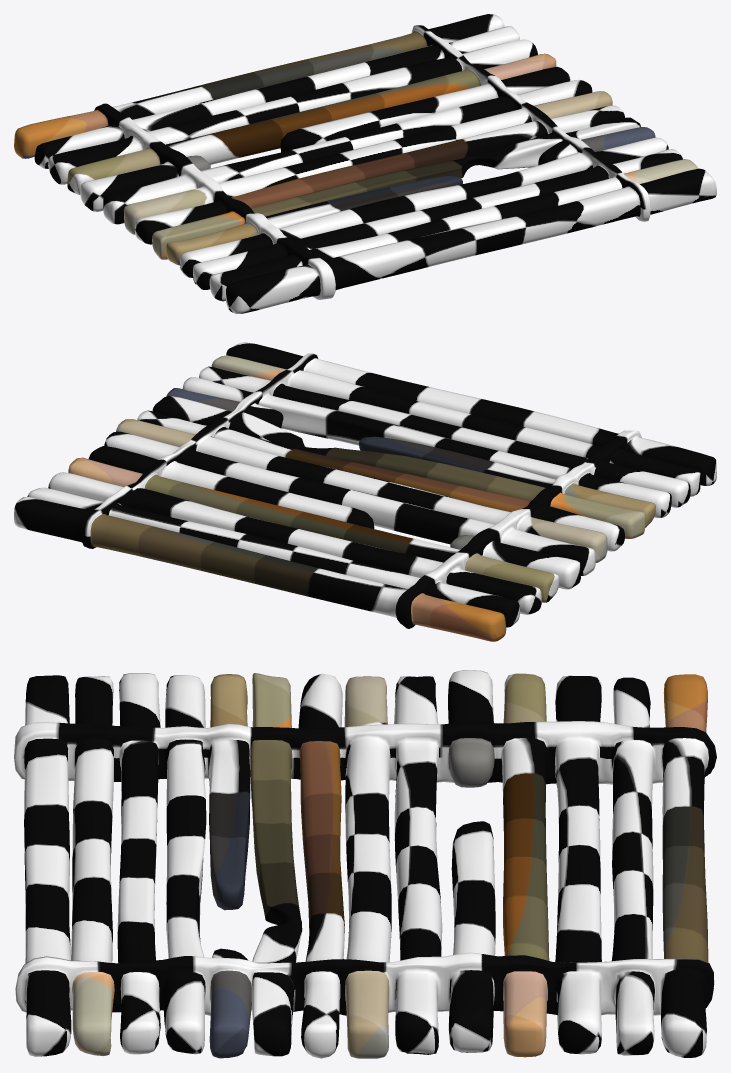
Rendered from RaftBroken_2.fbx.
3 renders of one model, top to bottom at view 1: azimuth 30°, elevation 25°; view 2: azimuth 150°, elevation 25°; view 3: azimuth 270°, elevation 25°, orthographic. The views are drawn at different scales.
Parts seen in each view (by area): view 1: RaftBroken_2; view 2: RaftBroken_2; view 3: RaftBroken_2.
Part boxes in pixels (x1,y1,x2,y2): RaftBroken_2: (14,14,716,313); RaftBroken_2: (14,342,716,641); RaftBroken_2: (14,670,716,1058).
Size of the model in its own units: 1095 by 87.92 by 907.
